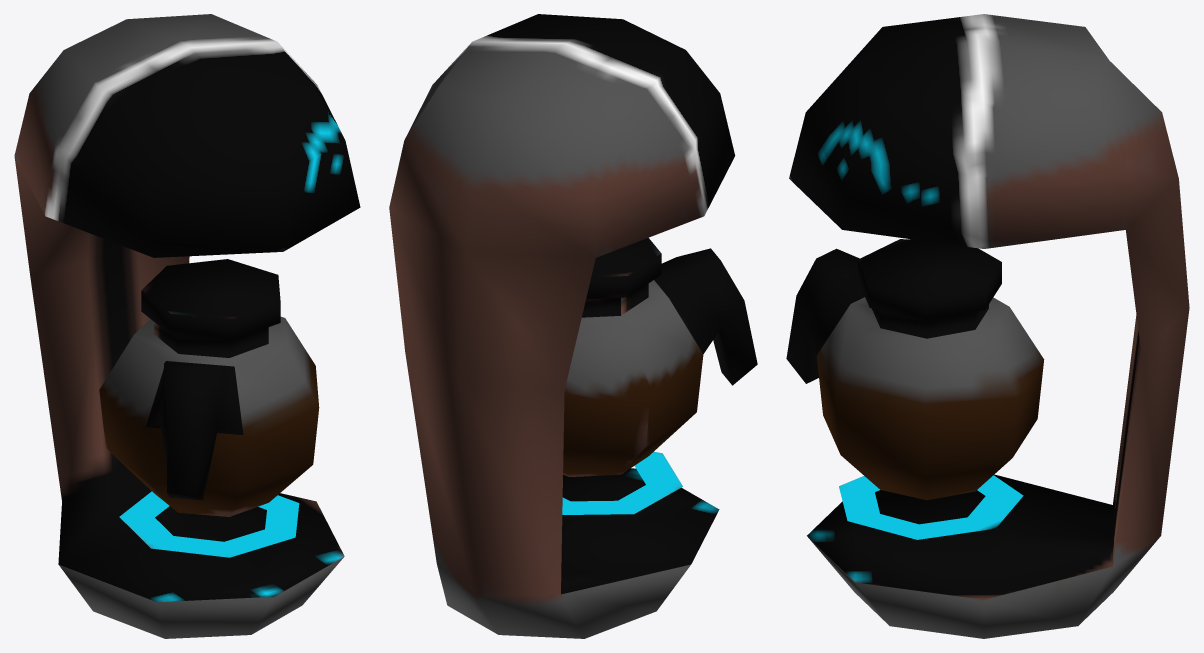
File: amazoncafe_cafeteira.gltf
The picture shows the model from 3 angles, left to right: view 1: azimuth 30°, elevation 25°; view 2: azimuth 150°, elevation 25°; view 3: azimuth 270°, elevation 25°; orthographic projection.
Parts seen in each view (by area): view 1: aparelho; view 2: aparelho; view 3: aparelho.
Part boxes in pixels (x1=…): aparelho: x1=14, y1=14, x2=360, y2=638; aparelho: x1=389, y1=14, x2=757, y2=638; aparelho: x1=786, y1=14, x2=1189, y2=638.
Bounding box in the file's own units: 0.2815 × 0.5146 × 0.3402.
1 material, 1 textured.
